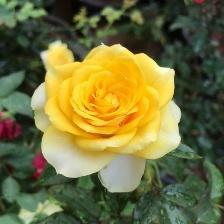rose: (33, 45, 184, 181)
